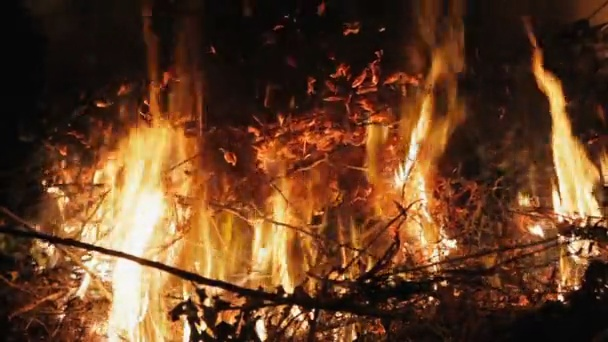fire: (37, 116, 199, 341), (361, 102, 457, 269), (533, 50, 601, 227), (244, 191, 307, 339), (556, 238, 589, 289), (527, 224, 543, 235)
